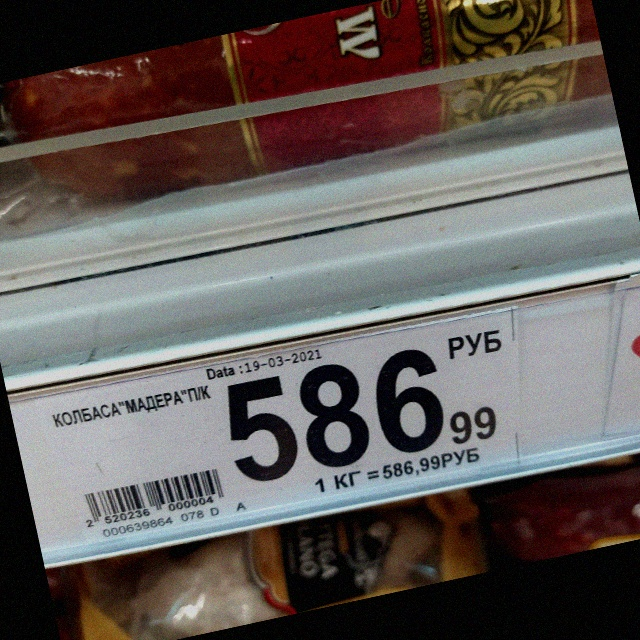barcode: (83, 466, 224, 530)
name: (52, 382, 213, 432)
price: (224, 346, 499, 485)
price_tag: (40, 303, 520, 547)
